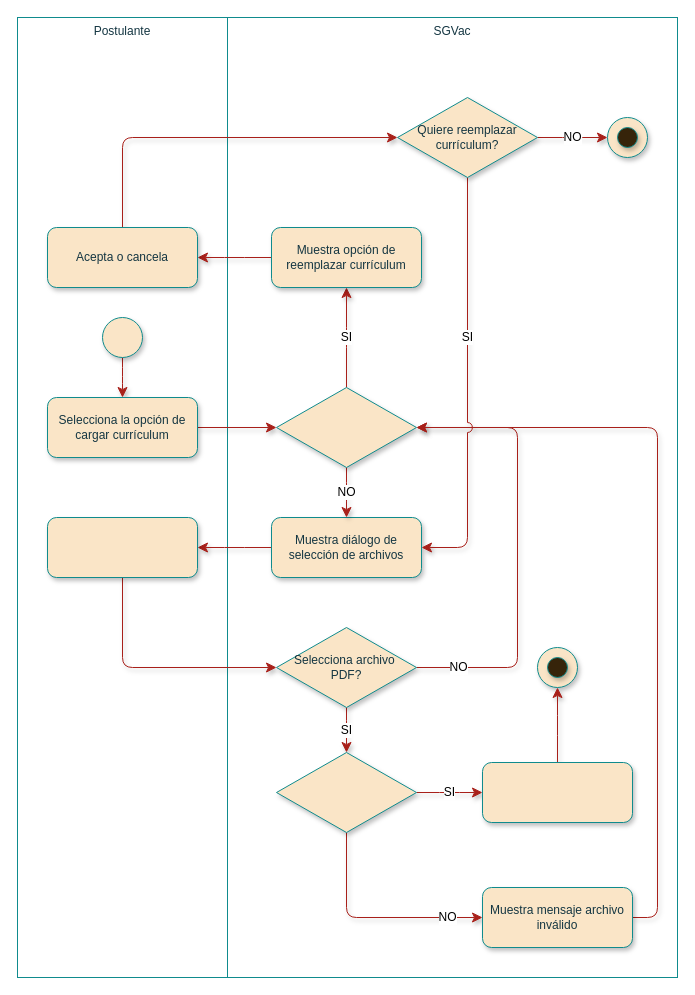
This 695x995 diagram has some shape labels left out. Each missing label, with the centre of its shape:
"Crea currículum" belongs at point (558, 794).
"El archivo subido cumple las validaciones?" belongs at point (347, 794).
"Selecciona archivo" belongs at point (123, 548).
"Tiene un currículum cargado?" belongs at point (347, 428).
